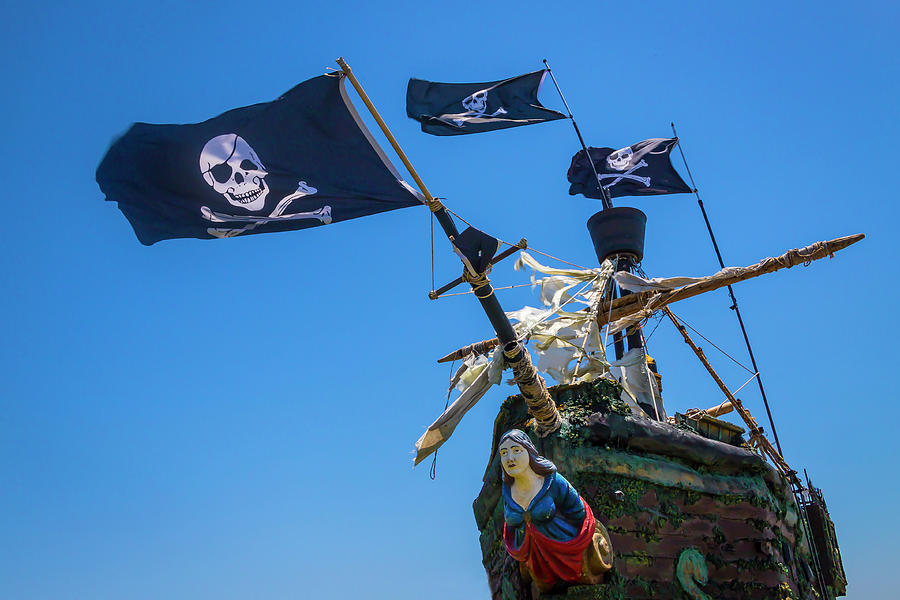Flag: (95, 70, 431, 244), (406, 70, 570, 141), (567, 139, 697, 199)
